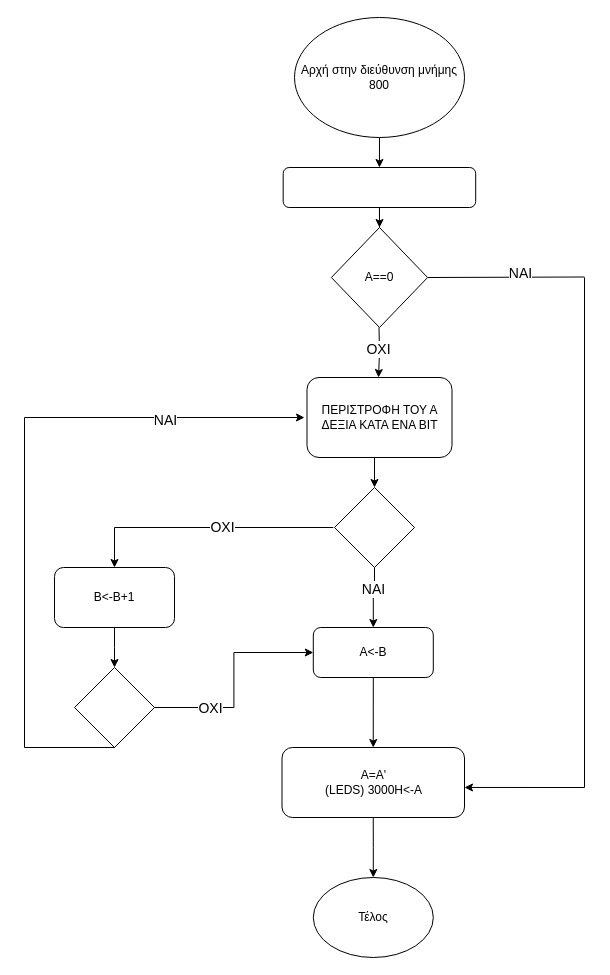
The diagram is 610 pixels wide and 975 high, and some of its shapes have lost their labels. The shapes that lost their labels are listed below. From the top down, each one's centre as x and y in pixels, then its label:
At (x=379, y=187): "B<-01 A<-2000H (DIP SWITCHESE)".
At (x=374, y=527): "CY=1".
At (x=114, y=707): "Zero flag !=0".
